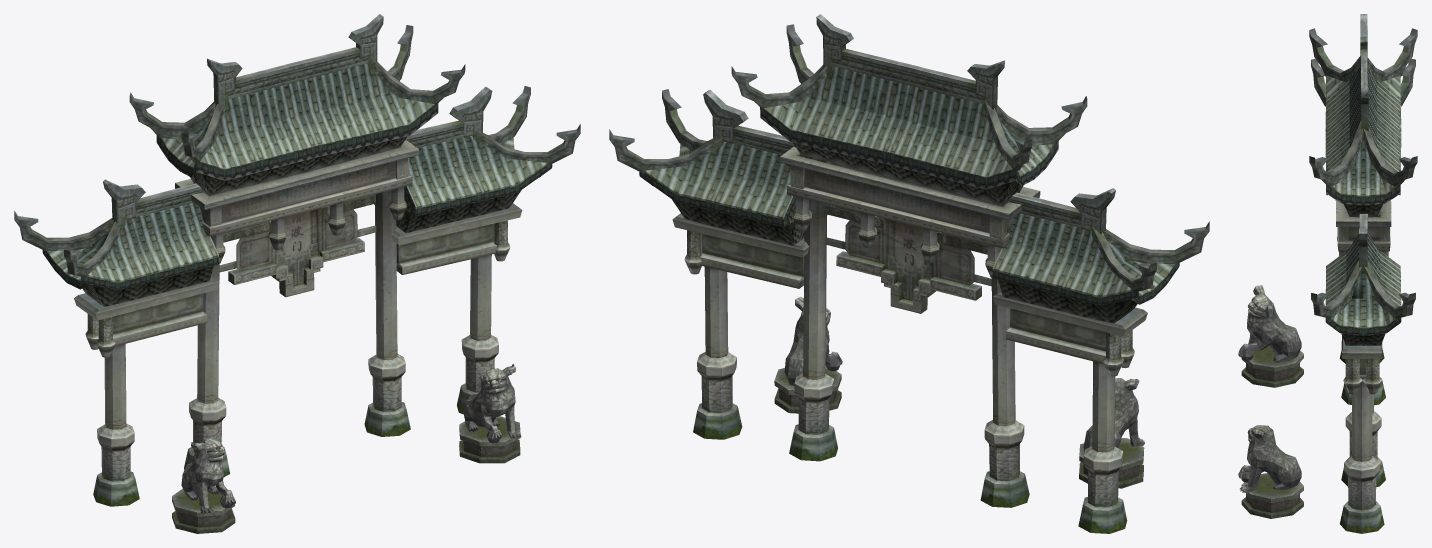
Rendered from Demo_jiangnan_paifang.FBX.
3 renders of one model, left to right at view 1: azimuth 30°, elevation 25°; view 2: azimuth 150°, elevation 25°; view 3: azimuth 270°, elevation 25°, orthographic. The views are drawn at different scales.
Visible parts, largest first — view 1: Object007ljnx; view 2: Object007ljnx; view 3: Object007ljnx.
Part boxes in pixels (x1,y1,x2,y2): Object007ljnx: (14, 14, 580, 533); Object007ljnx: (609, 14, 1209, 533); Object007ljnx: (1238, 14, 1417, 533).
Bounding box in the file's own units: 802 × 616 × 258.
